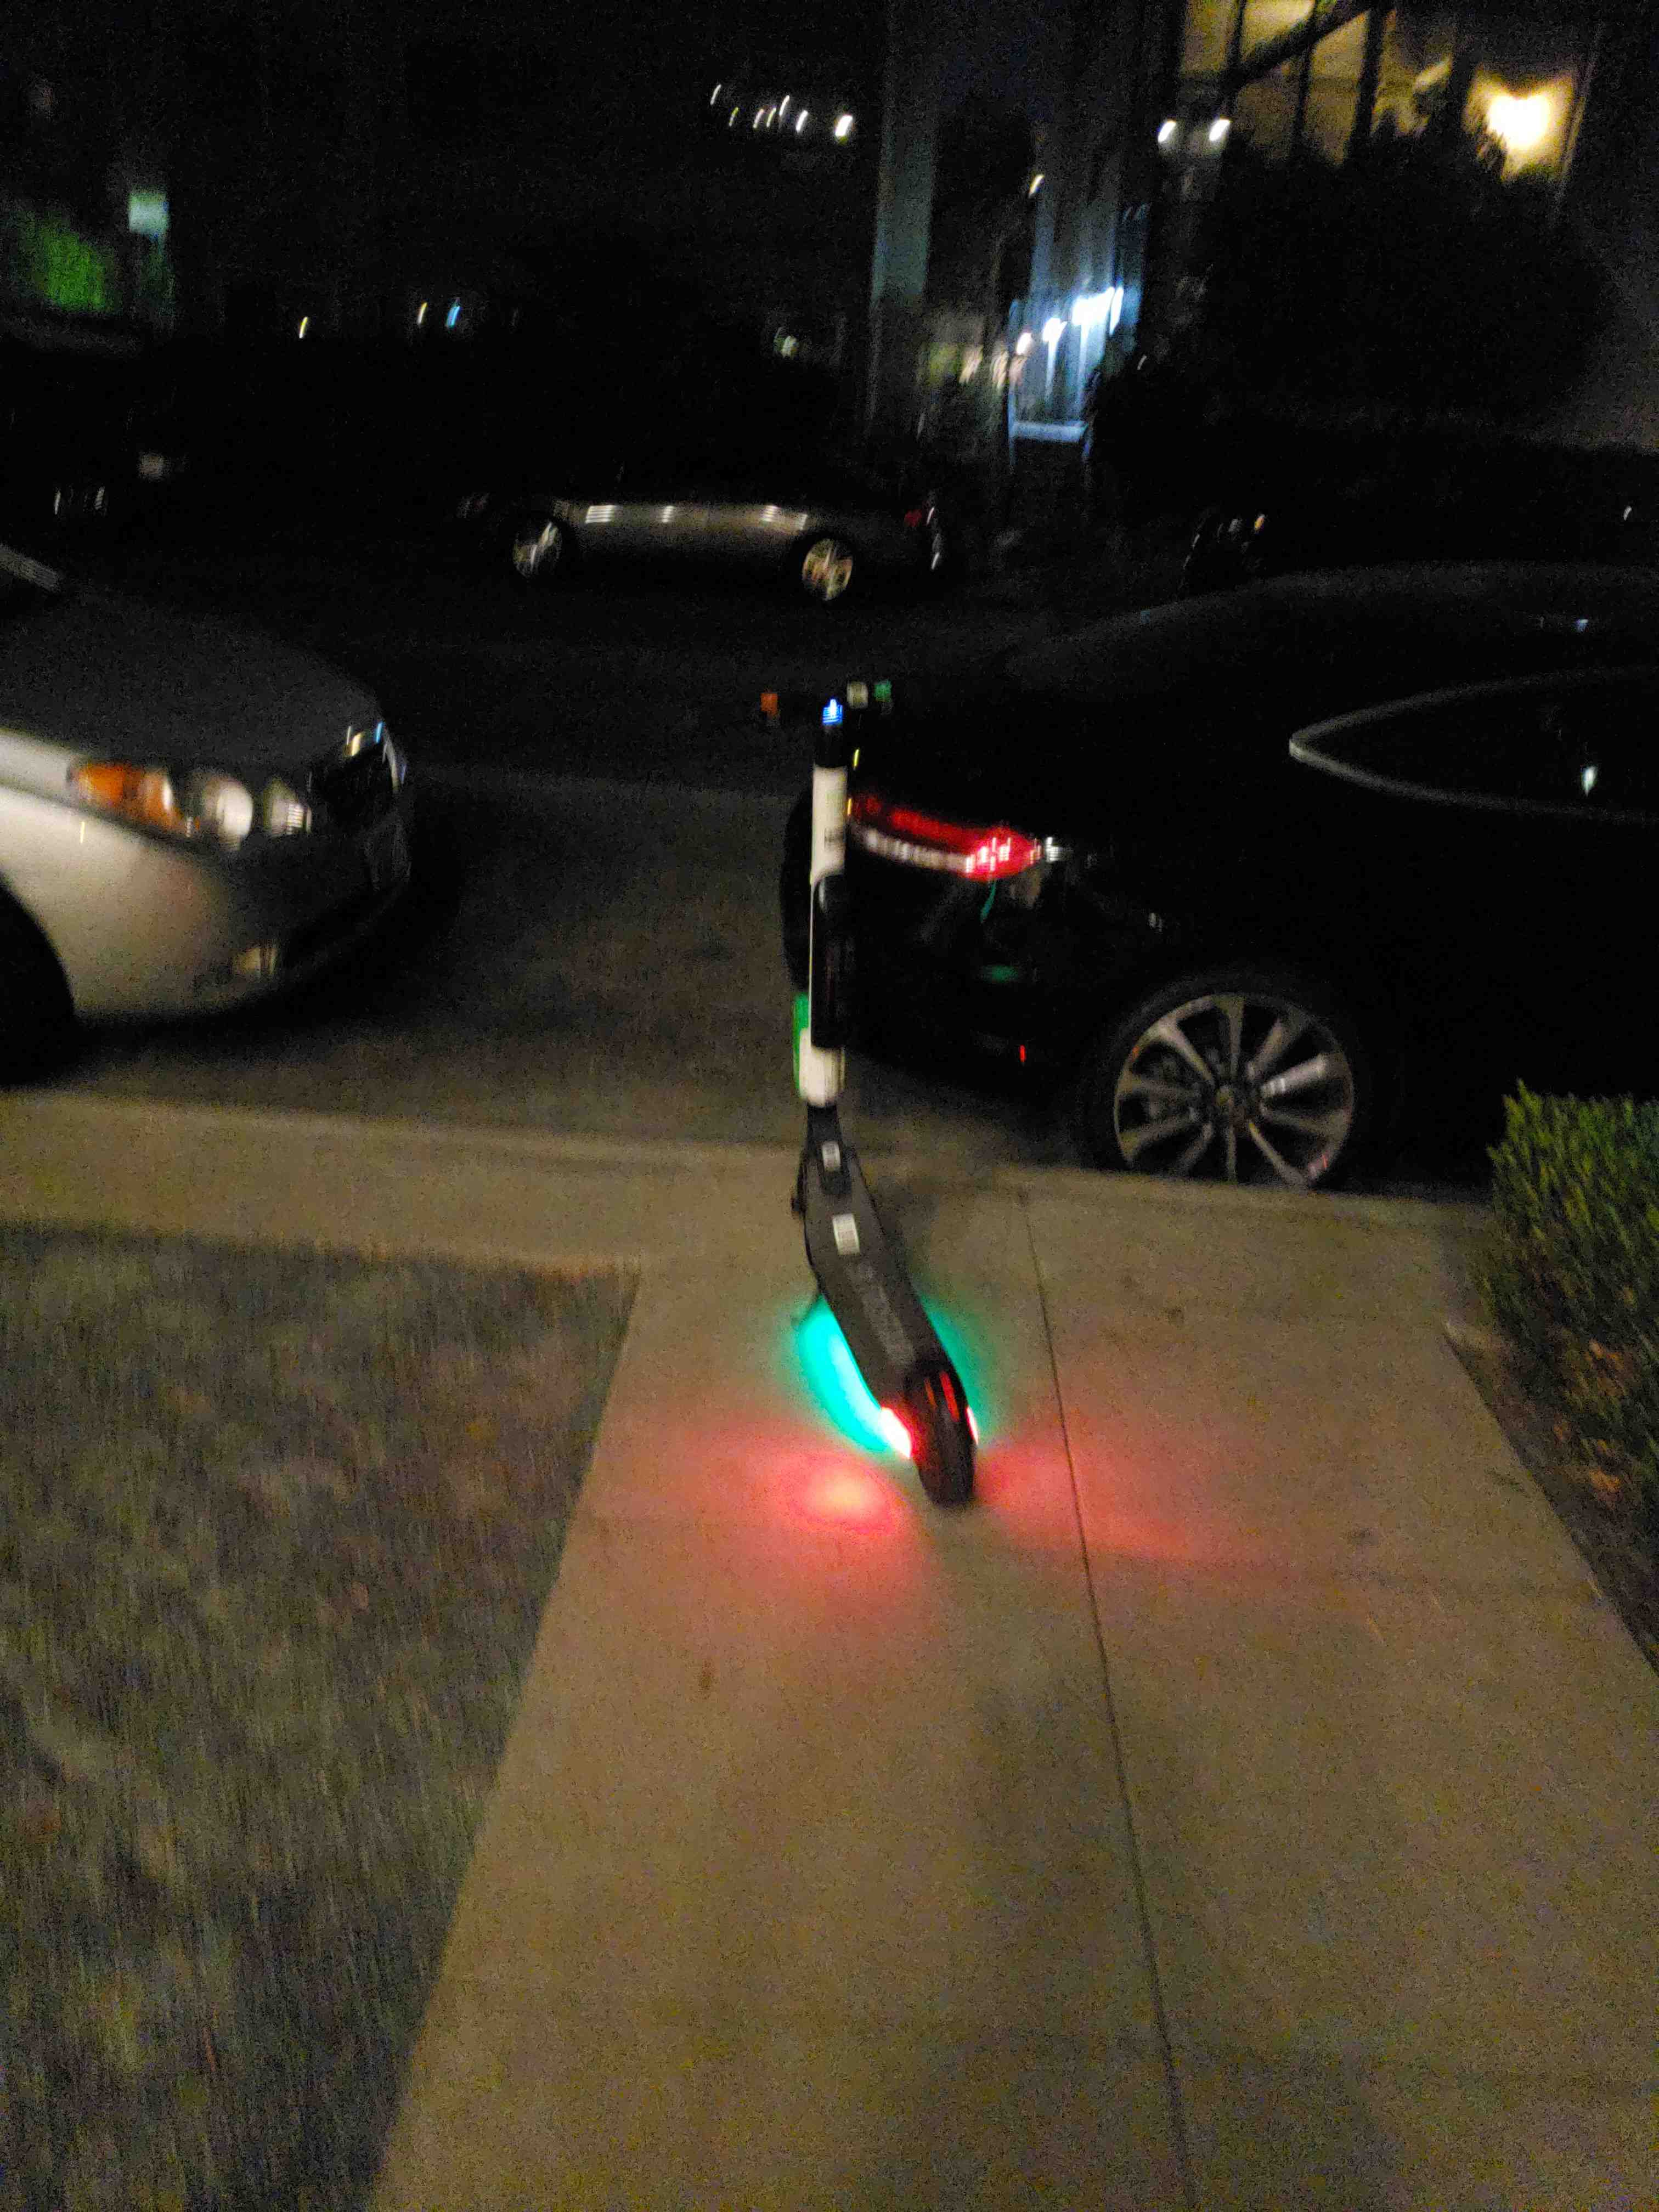scooter: (504, 543, 1110, 1609)
